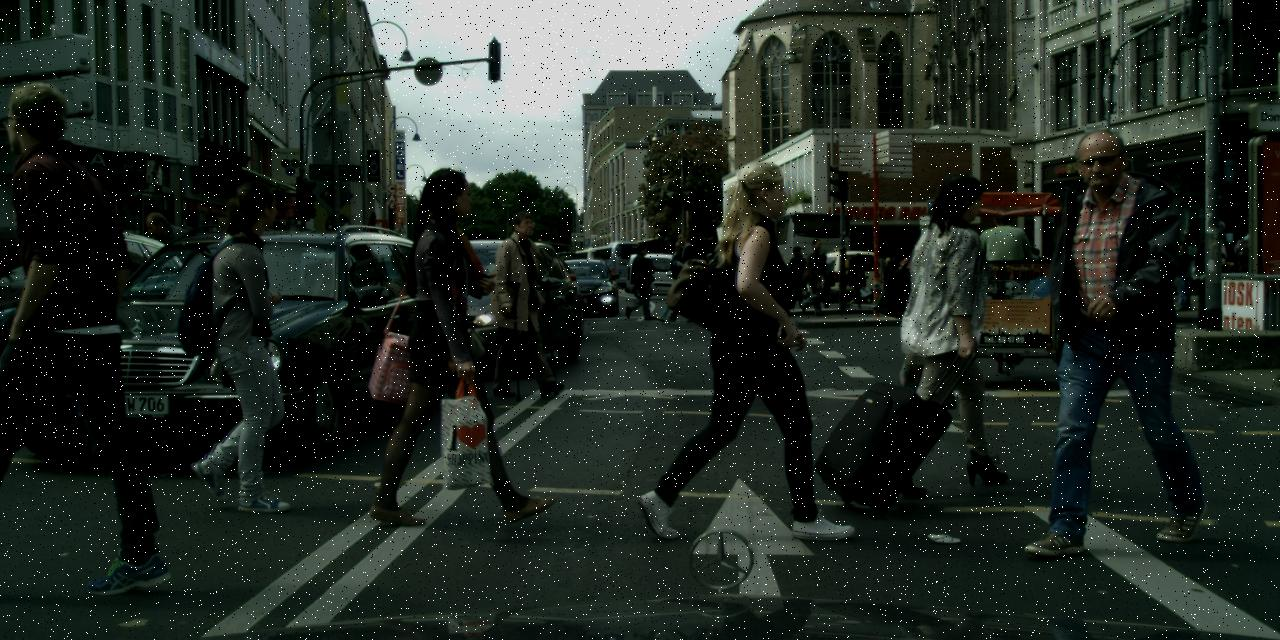ped: (1030, 128, 1200, 540), (0, 81, 136, 583), (670, 160, 822, 532), (383, 165, 528, 520), (179, 182, 310, 502), (886, 172, 1016, 486), (488, 211, 563, 394), (973, 202, 1033, 349), (142, 209, 196, 341), (1191, 220, 1244, 348), (154, 212, 206, 341), (666, 232, 701, 321), (663, 239, 695, 320), (624, 242, 655, 317), (799, 239, 829, 313), (1168, 244, 1196, 310), (782, 245, 809, 312), (844, 252, 868, 310), (810, 252, 833, 310), (880, 257, 896, 297)
